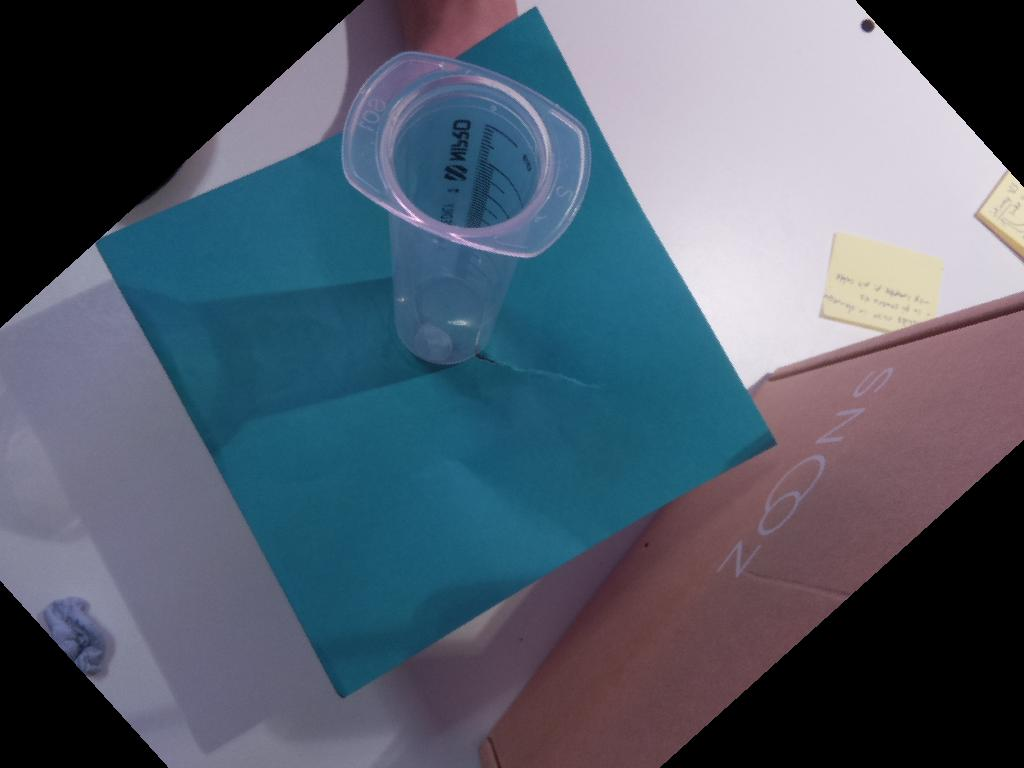clean: (340, 51, 592, 259)
